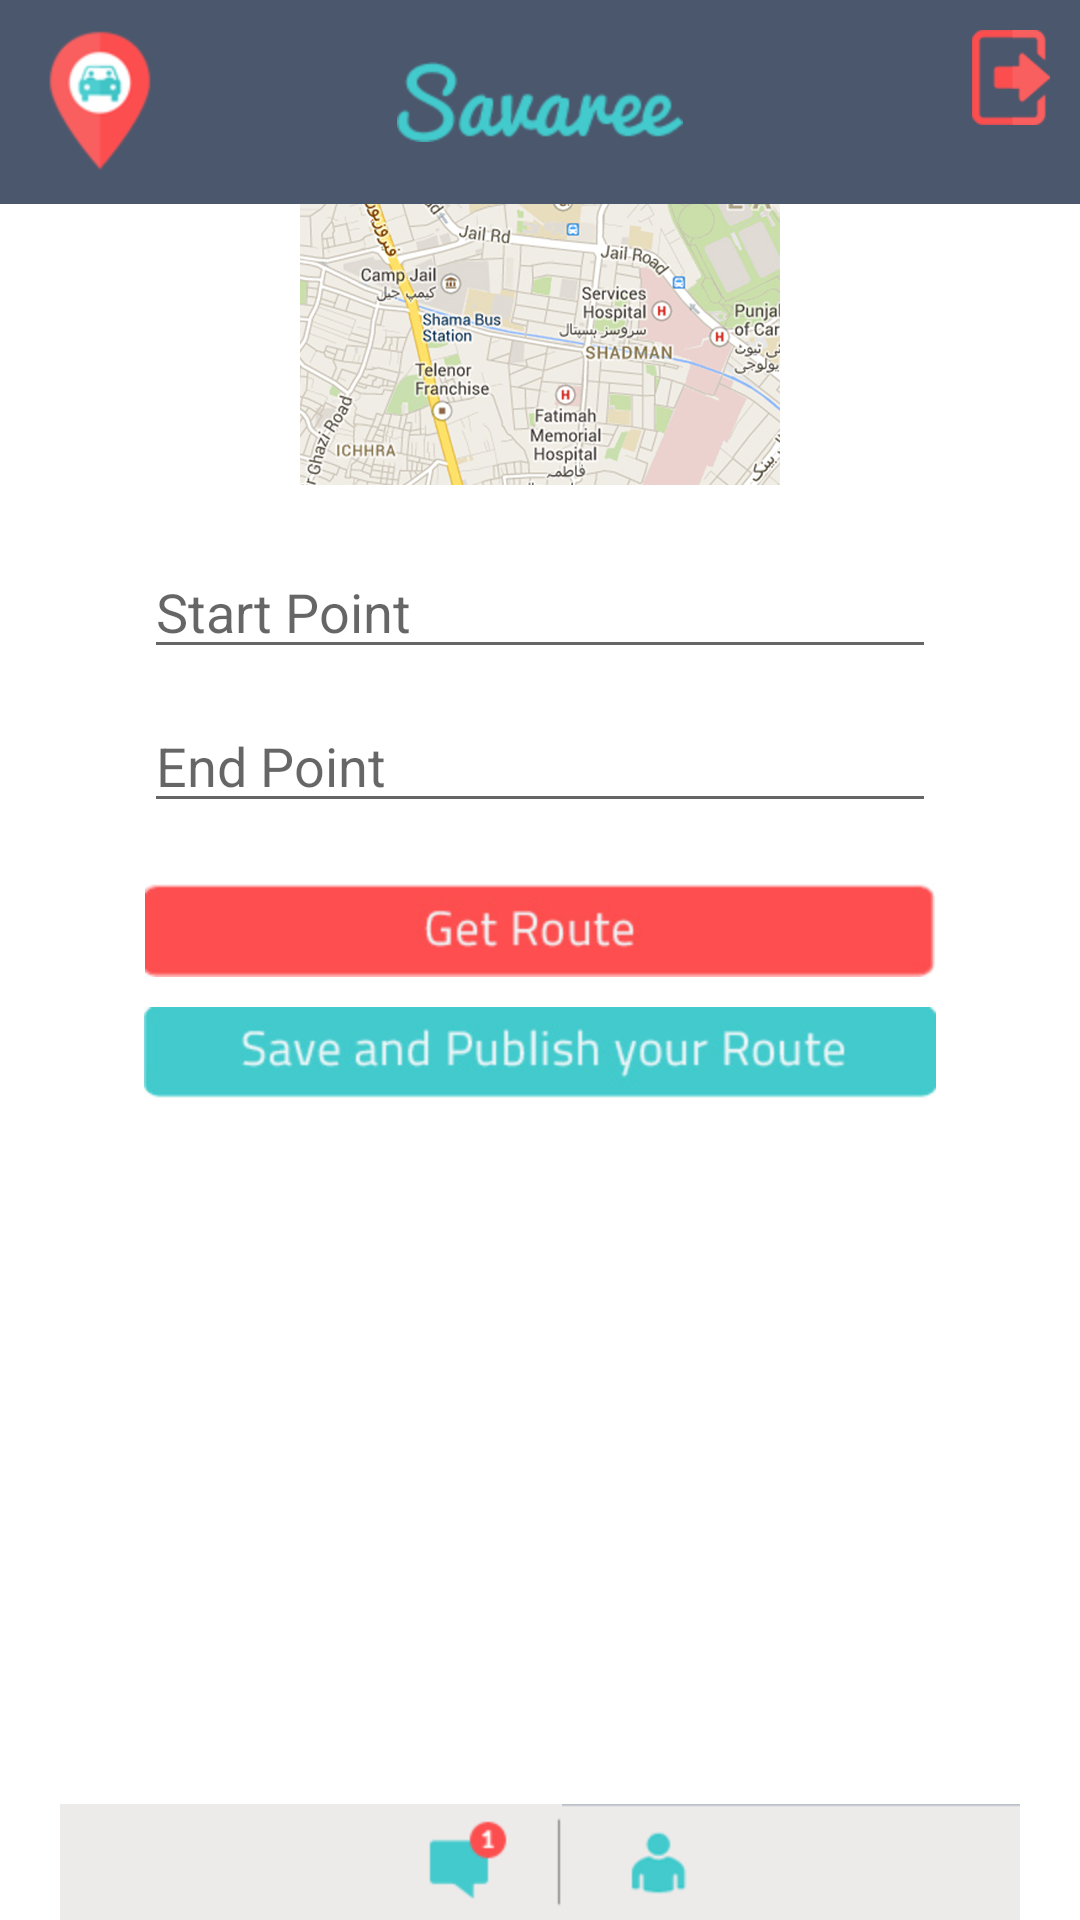

Locate icon controls on the screen. Image size 1080 x 1920, boxes as [x1,y1,x2,y2].
marker: [49,31,151,169]
